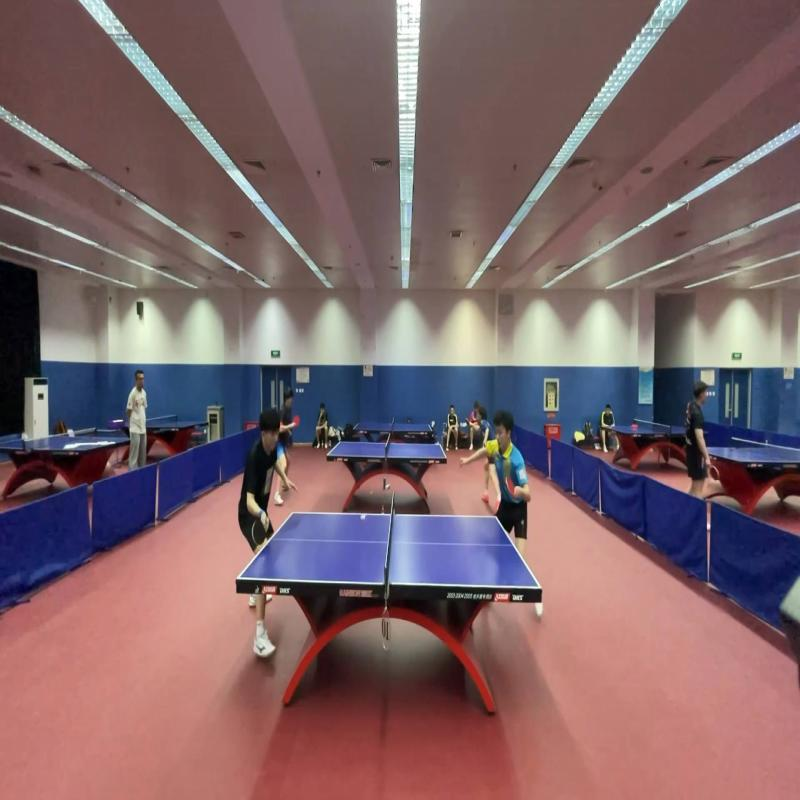bats: (246, 512, 275, 547)
